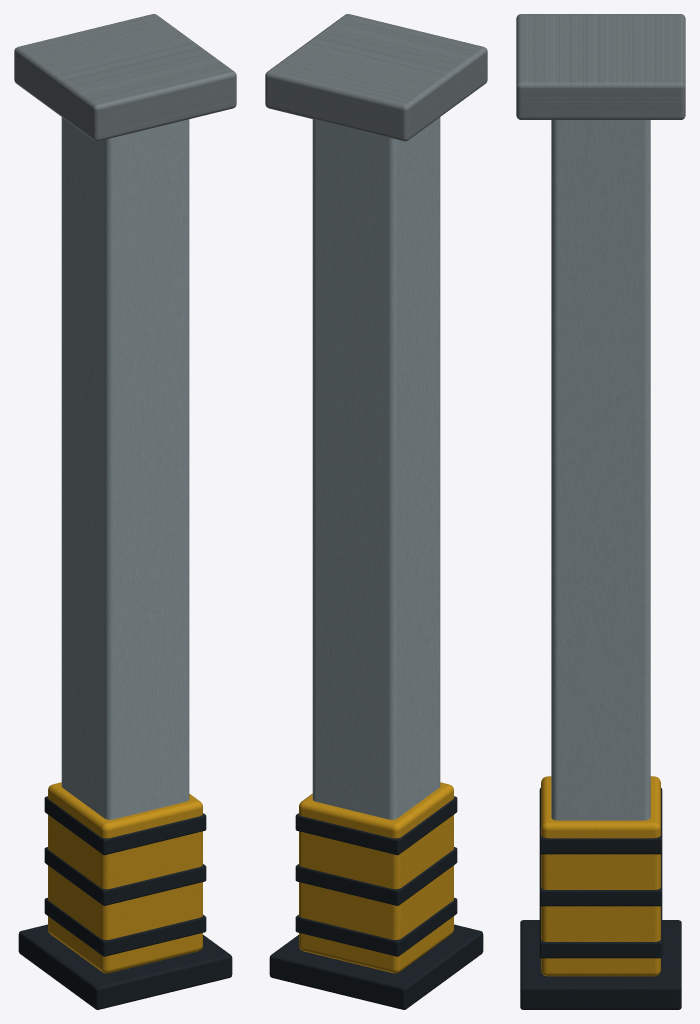
File: column.0c4b5b2e97f3.glb
3 views of the same model, side by side, from view 1: azimuth 30°, elevation 25°; view 2: azimuth 150°, elevation 25°; view 3: azimuth 270°, elevation 25° (orthographic). The views are drawn at different scales.
Parts seen in each view (by area): view 1: column_0002, capital_0007, impact_guard_0003, baseplate_0001, guard_band_0005, guard_band_0006, guard_band_0004; view 2: column_0002, capital_0007, impact_guard_0003, baseplate_0001, guard_band_0005, guard_band_0006, guard_band_0004; view 3: column_0002, capital_0007, impact_guard_0003, baseplate_0001, guard_band_0006, guard_band_0004, guard_band_0005.
Boxes of the visible parts, x1=… form: column_0002: x1=61, y1=117, x2=189, y2=819; capital_0007: x1=14, y1=14, x2=236, y2=141; impact_guard_0003: x1=48, y1=782, x2=202, y2=973; baseplate_0001: x1=18, y1=924, x2=232, y2=1009; guard_band_0005: x1=44, y1=847, x2=206, y2=905; guard_band_0006: x1=44, y1=796, x2=206, y2=855; guard_band_0004: x1=44, y1=897, x2=206, y2=956; column_0002: x1=312, y1=117, x2=440, y2=819; capital_0007: x1=265, y1=14, x2=487, y2=141; impact_guard_0003: x1=299, y1=782, x2=453, y2=973; baseplate_0001: x1=269, y1=924, x2=483, y2=1009; guard_band_0005: x1=295, y1=847, x2=457, y2=905; guard_band_0006: x1=295, y1=796, x2=457, y2=855; guard_band_0004: x1=295, y1=897, x2=457, y2=956; column_0002: x1=551, y1=120, x2=650, y2=820; capital_0007: x1=516, y1=14, x2=685, y2=119; impact_guard_0003: x1=541, y1=776, x2=660, y2=976; baseplate_0001: x1=520, y1=920, x2=681, y2=1009; guard_band_0006: x1=539, y1=788, x2=662, y2=854; guard_band_0004: x1=539, y1=905, x2=662, y2=958; guard_band_0005: x1=539, y1=853, x2=662, y2=906.
Bounding box in the file's own units: 0.65 × 3.93 × 0.65.
Materials: 4 (4 with a texture image).
